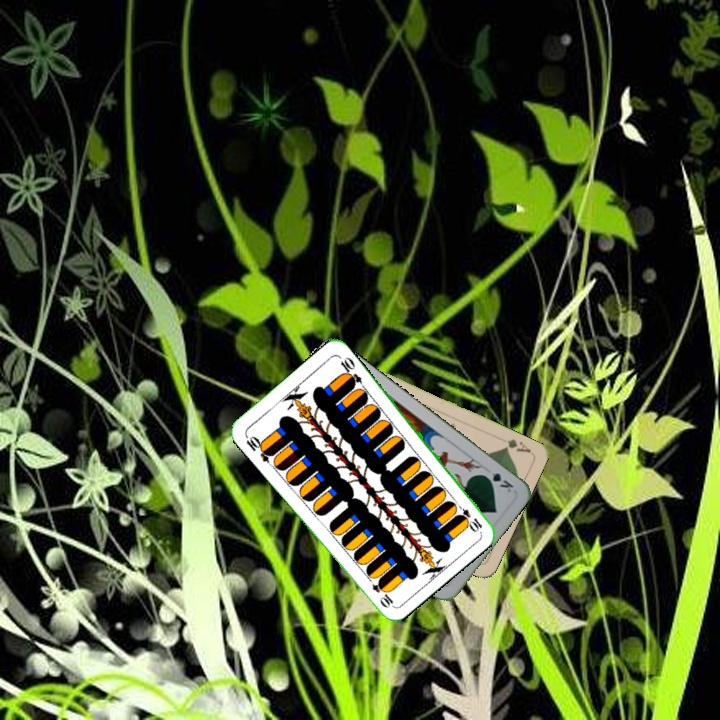E10: (451, 499, 485, 534), (241, 431, 275, 465)
GA: (500, 435, 534, 456)
GK: (479, 468, 516, 495)
